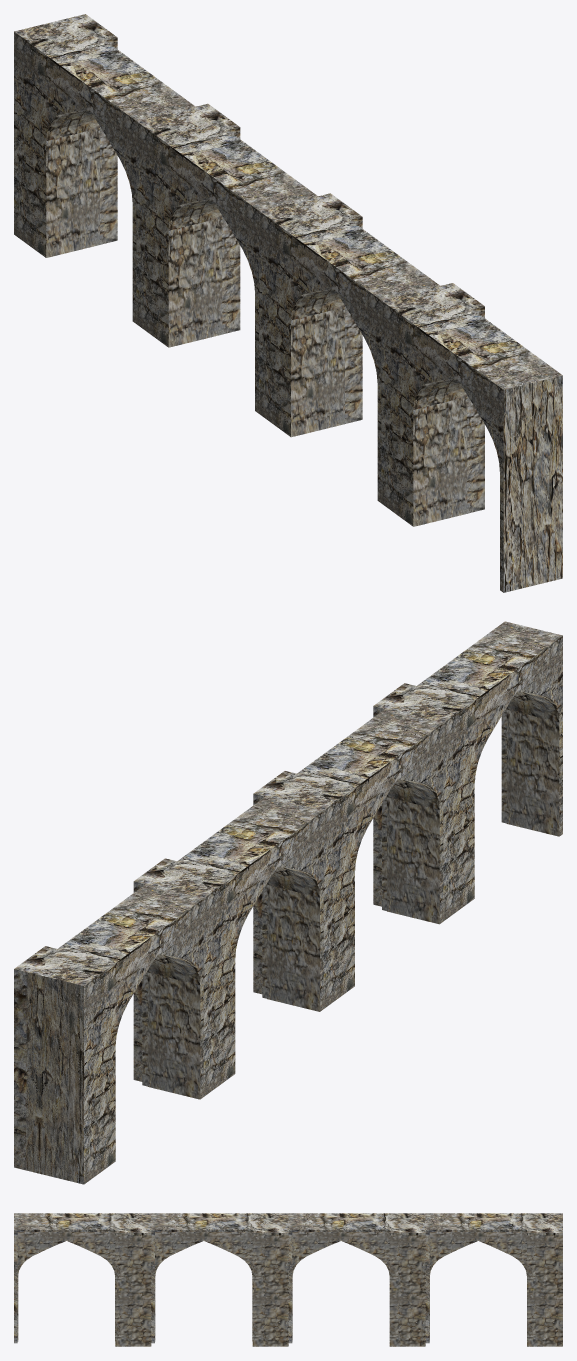
File: front_windows1.fbx
The picture shows the model from 3 angles, top to bottom: view 1: azimuth 30°, elevation 25°; view 2: azimuth 150°, elevation 25°; view 3: azimuth 270°, elevation 25°; orthographic projection. The views are drawn at different scales.
Parts seen in each view (by area): view 1: window_frame_out.001; view 2: window_frame_out.001; view 3: window_frame_out.001.
Part boxes in pixels (box(x1,y1,x2,y2)): window_frame_out.001: box(14, 14, 562, 592); window_frame_out.001: box(14, 621, 562, 1184); window_frame_out.001: box(14, 1213, 562, 1346).
Size of the model in its own units: 124 by 336 by 1467.
1 material, 1 textured.
